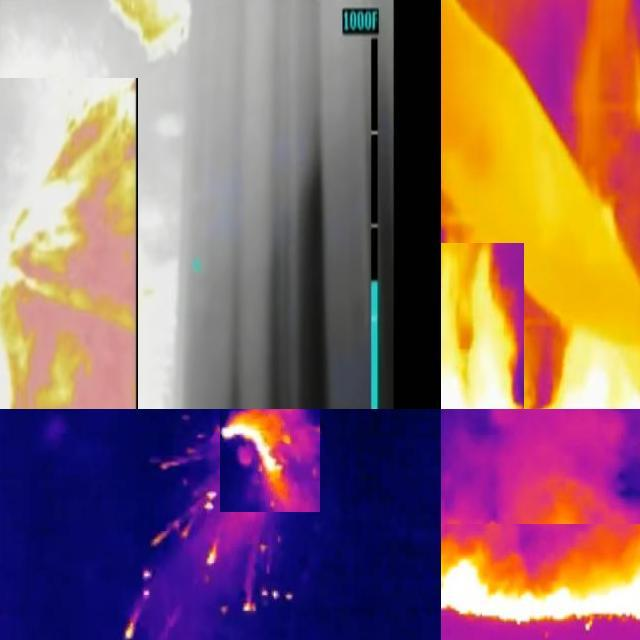fire: (1, 79, 139, 410), (442, 525, 640, 640), (442, 244, 525, 410), (221, 410, 321, 513), (546, 324, 640, 410)
